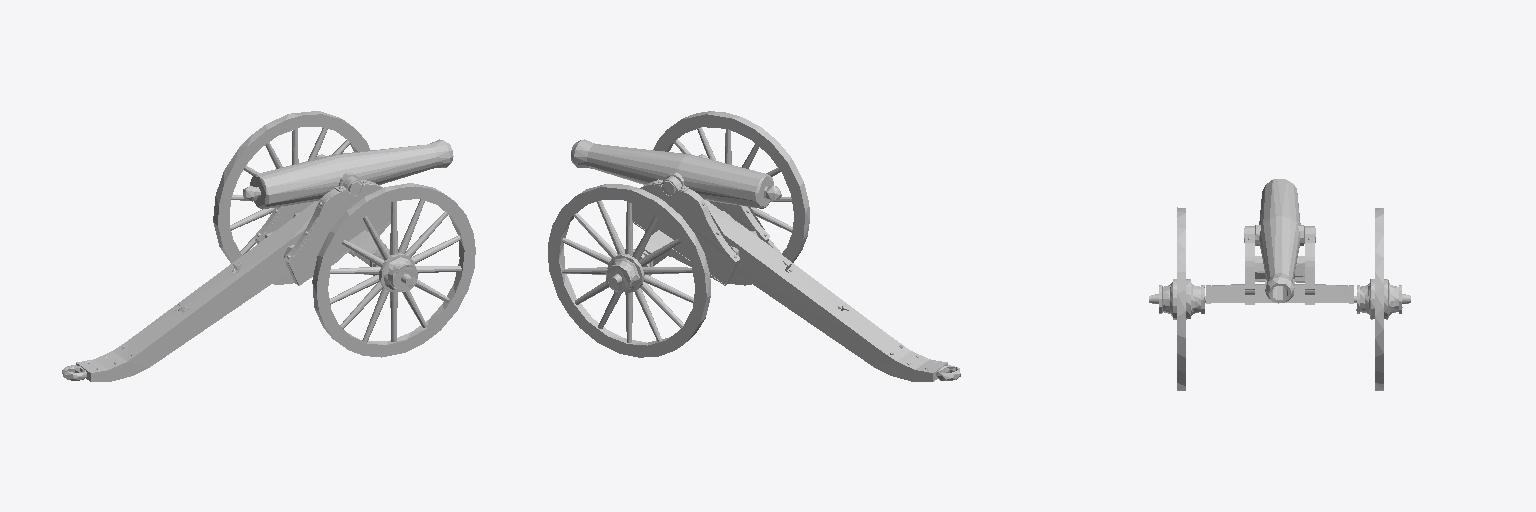
Rendered from cannon3_compressed.obj.
3 views of the same model, side by side, from view 1: azimuth 30°, elevation 25°; view 2: azimuth 150°, elevation 25°; view 3: azimuth 270°, elevation 25° (orthographic).
Parts seen in each view (by area): view 1: Wheel.L_Cylinder.002, Tongue_Cube.002, Barrel_Cylinder, Wheel.R_Cylinder.002, Vert, Vert.001_Vert; view 2: Wheel.R_Cylinder.002, Tongue_Cube.002, Barrel_Cylinder, Wheel.L_Cylinder.002, Vert.001_Vert, Vert; view 3: Barrel_Cylinder, Wheel.L_Cylinder.002, Wheel.R_Cylinder.002, WheelBase_Cube.003, Vert, Vert.001_Vert.
Part boxes in pixels (left/top/right/bottom): Wheel.L_Cylinder.002: left=312, top=183, right=475, bottom=357; Tongue_Cube.002: left=62, top=200, right=319, bottom=381; Barrel_Cylinder: left=243, top=139, right=453, bottom=209; Wheel.R_Cylinder.002: left=213, top=111, right=370, bottom=284; Vert: left=284, top=176, right=390, bottom=285; Vert.001_Vert: left=254, top=154, right=324, bottom=243; Wheel.R_Cylinder.002: left=548, top=184, right=710, bottom=357; Tongue_Cube.002: left=704, top=200, right=960, bottom=381; Barrel_Cylinder: left=571, top=139, right=781, bottom=208; Wheel.L_Cylinder.002: left=653, top=111, right=809, bottom=285; Vert.001_Vert: left=632, top=176, right=739, bottom=285; Vert: left=699, top=154, right=769, bottom=242; Barrel_Cylinder: left=1244, top=179, right=1315, bottom=303; Wheel.L_Cylinder.002: left=1159, top=207, right=1204, bottom=390; Wheel.R_Cylinder.002: left=1356, top=208, right=1402, bottom=390; WheelBase_Cube.003: left=1206, top=284, right=1353, bottom=303; Vert: left=1245, top=226, right=1254, bottom=304; Vert.001_Vert: left=1305, top=226, right=1314, bottom=304.
Bounding box in the file's own units: 3.51 × 1.46 × 2.07.